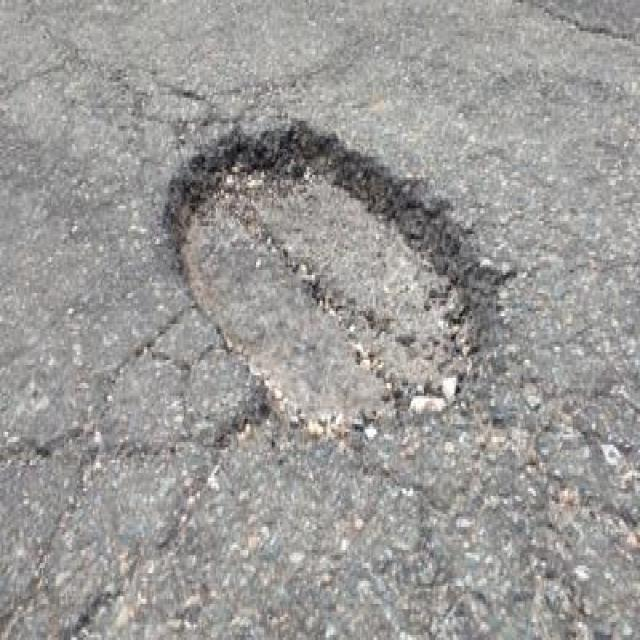pothole: (159, 125, 510, 446)
